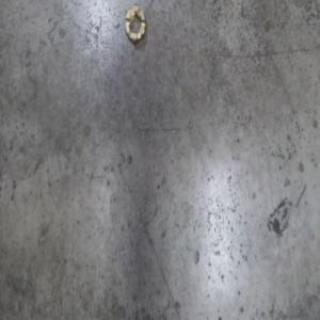Nuttrack_idkeyframe: (123, 4, 146, 45)
